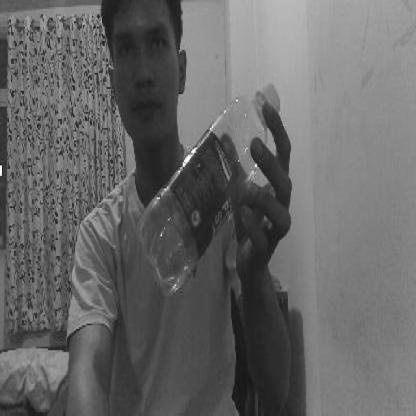plastic_bottles: (129, 75, 283, 308)
